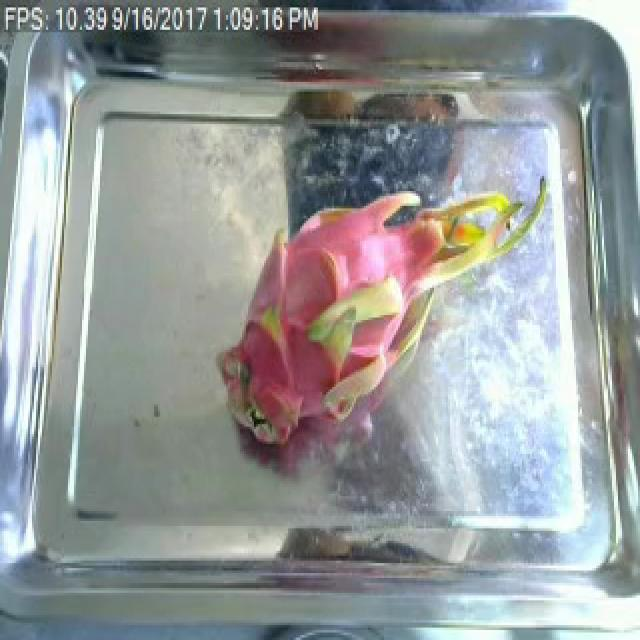fruit: (218, 149, 560, 469)
